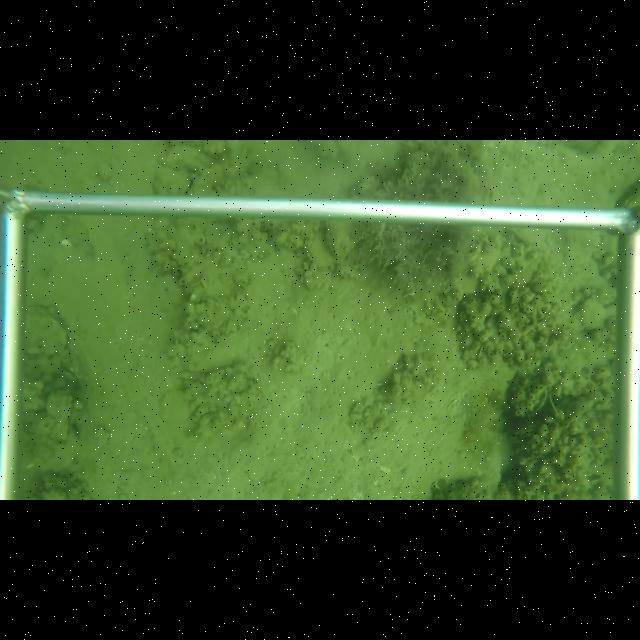Oyster-Closed: (26, 304, 71, 355), (325, 221, 362, 262)
Oyster-Open: (517, 387, 550, 420), (59, 366, 83, 384), (70, 421, 84, 444)
